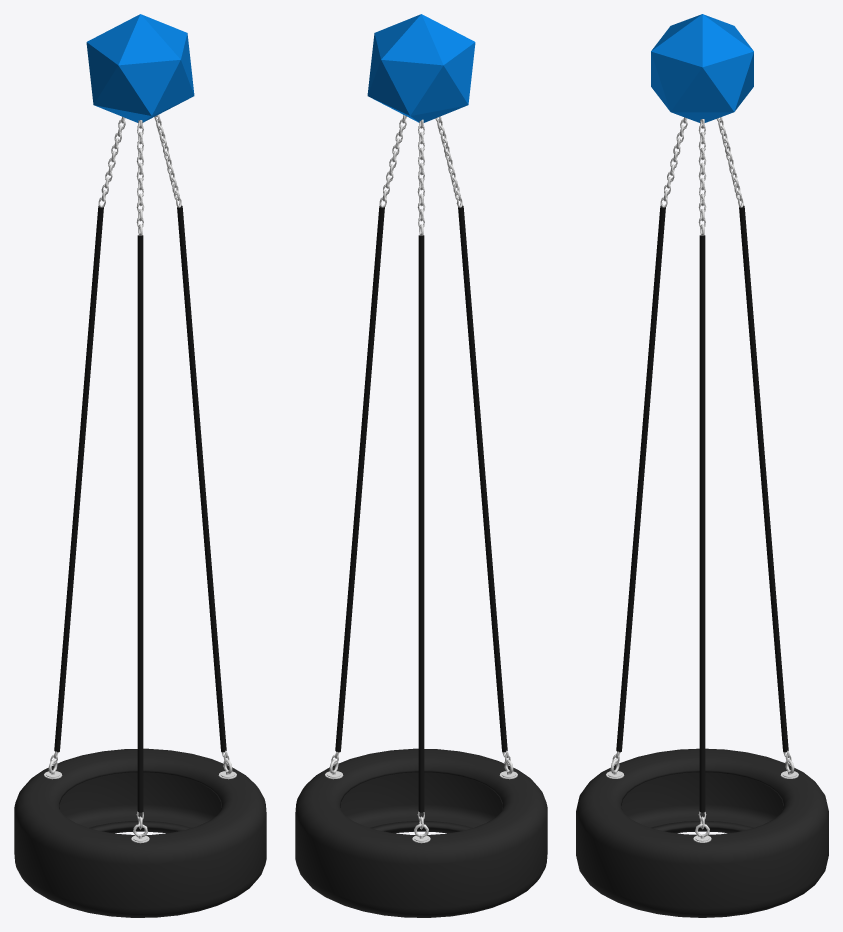
File: Tire swing.glb
3 renders of one model, left to right at view 1: azimuth 30°, elevation 25°; view 2: azimuth 150°, elevation 25°; view 3: azimuth 270°, elevation 25°, orthographic.
Visible parts, largest first — view 1: Cylinder.008, Cylinder.009, Joint.016, Torus.004; view 2: Cylinder.008, Cylinder.009, Joint.016, Torus.004; view 3: Cylinder.008, Cylinder.009, Joint.016, Torus.004.
Boxes of the visible parts, bbox=[...] form: Cylinder.008: bbox=[14, 748, 266, 917]; Cylinder.009: bbox=[54, 205, 226, 812]; Joint.016: bbox=[86, 14, 194, 122]; Torus.004: bbox=[48, 114, 232, 837]; Cylinder.008: bbox=[295, 748, 547, 917]; Cylinder.009: bbox=[335, 206, 507, 812]; Joint.016: bbox=[367, 14, 475, 122]; Torus.004: bbox=[329, 114, 513, 837]; Cylinder.008: bbox=[576, 748, 828, 917]; Cylinder.009: bbox=[616, 206, 788, 812]; Joint.016: bbox=[651, 14, 753, 122]; Torus.004: bbox=[610, 117, 794, 837].
Size of the model in its own units: 0.635 by 2.37 by 0.635.
